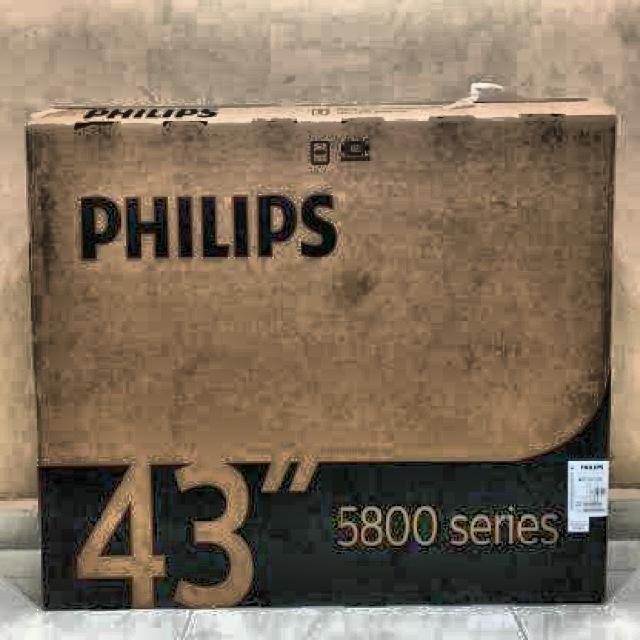Cardbox: (24, 83, 624, 619)
